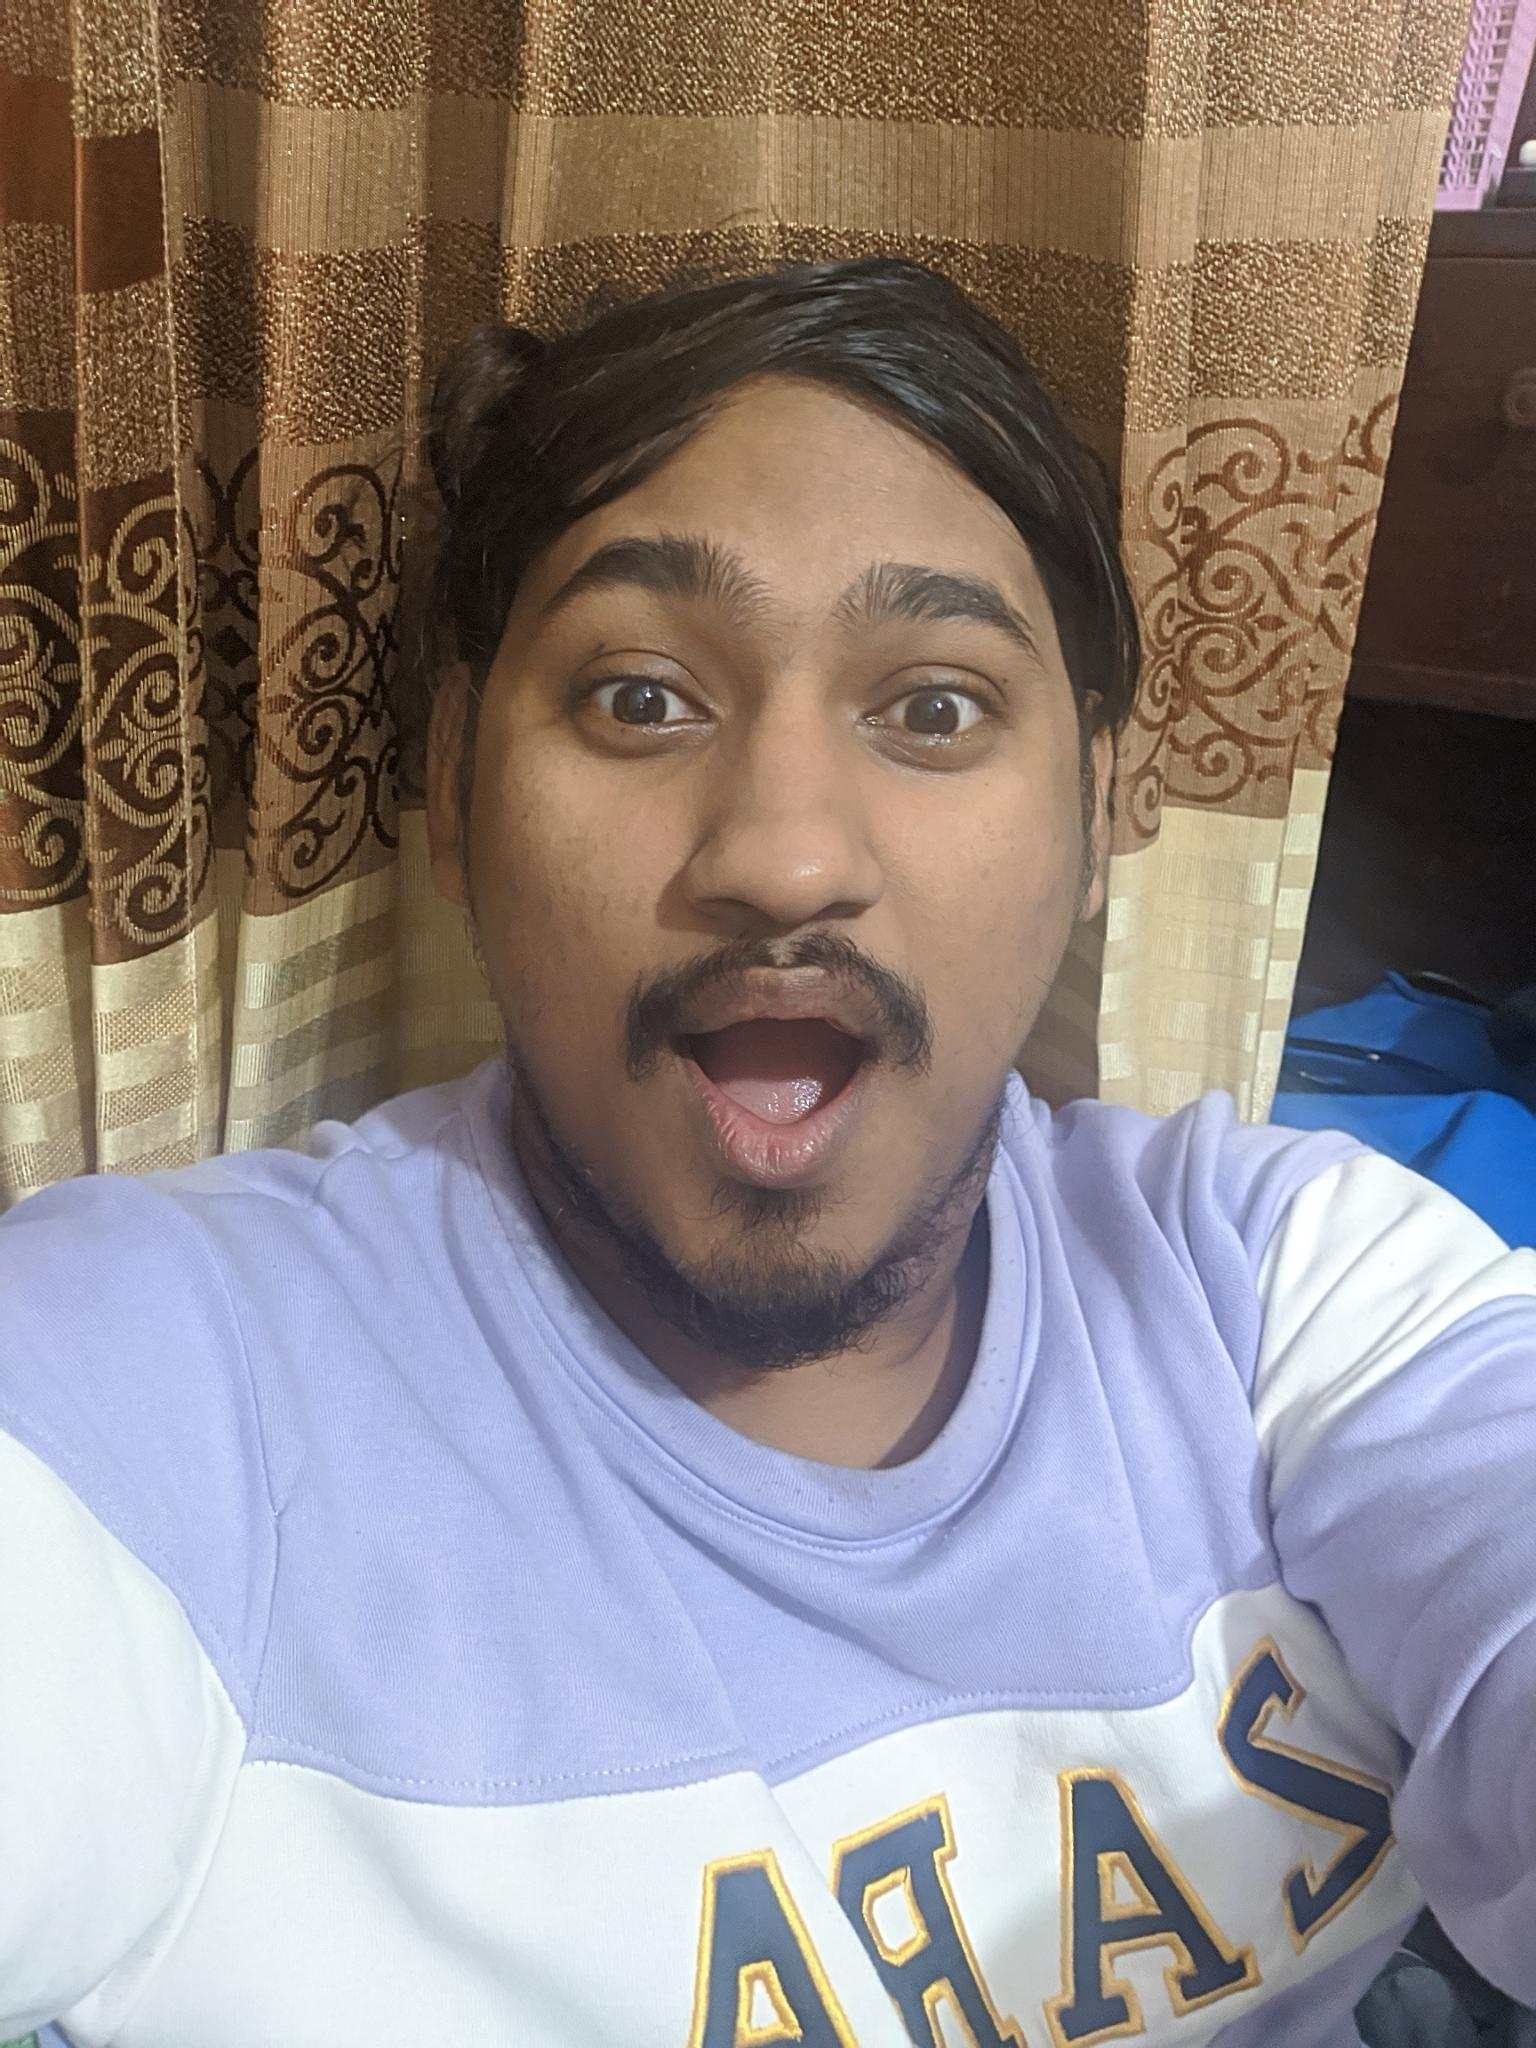Surprise: (463, 463, 1081, 1337)
